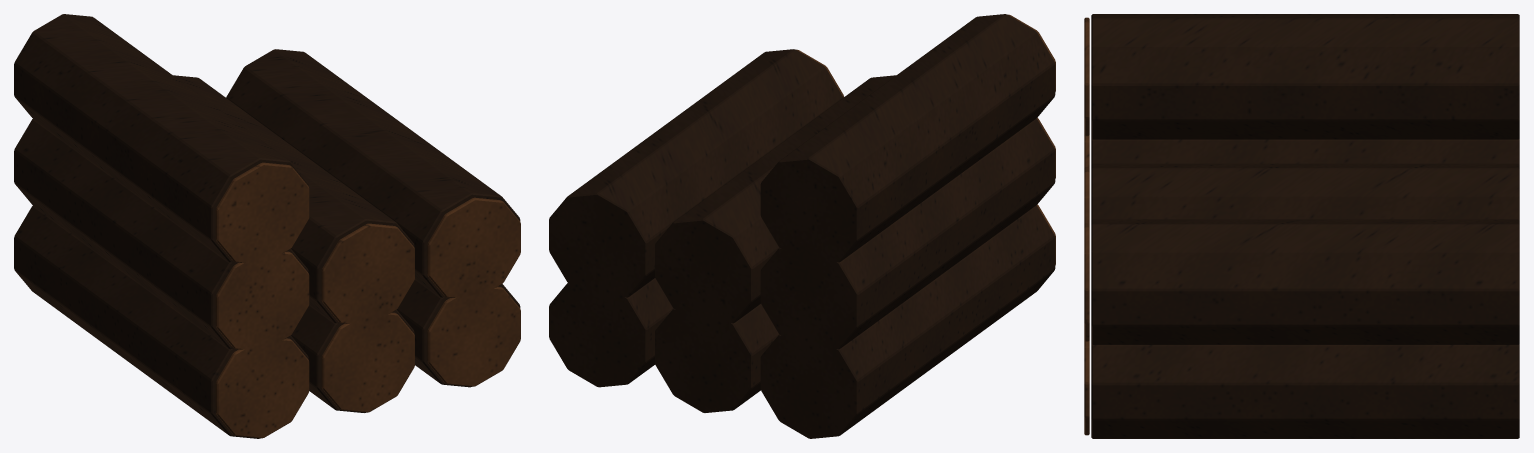
The model's file is PROP-B50FBD8BC166_lod1.glb.
The picture shows the model from 3 angles, left to right: view 1: azimuth 30°, elevation 25°; view 2: azimuth 150°, elevation 25°; view 3: azimuth 270°, elevation 25°; orthographic projection. The views are drawn at different scales.
Parts seen in each view (by area): view 1: log.001, cut_log_end.001; view 2: log.001, cut_log_end.001; view 3: log.001, cut_log_end.001.
Boxes of the visible parts, <box> form: log.001: <box>14,14,520,438</box>; cut_log_end.001: <box>215,162,520,438</box>; log.001: <box>549,14,1055,438</box>; cut_log_end.001: <box>796,14,1055,265</box>; log.001: <box>1091,14,1519,438</box>; cut_log_end.001: <box>1084,17,1089,435</box>.
Bounding box in the file's own units: 1.08 × 0.9375 × 1.22.
Materials: 2 (2 with a texture image).
